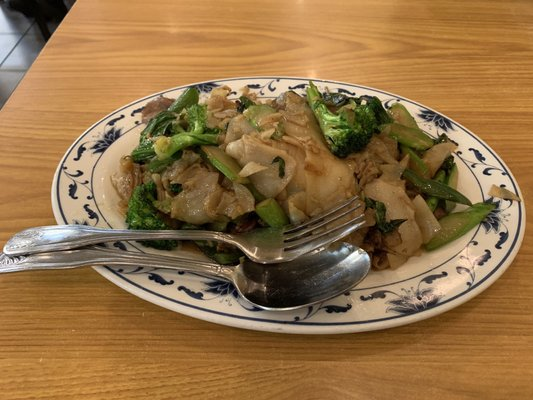curry: (130, 102, 221, 173), (306, 83, 391, 158), (125, 182, 171, 231)
